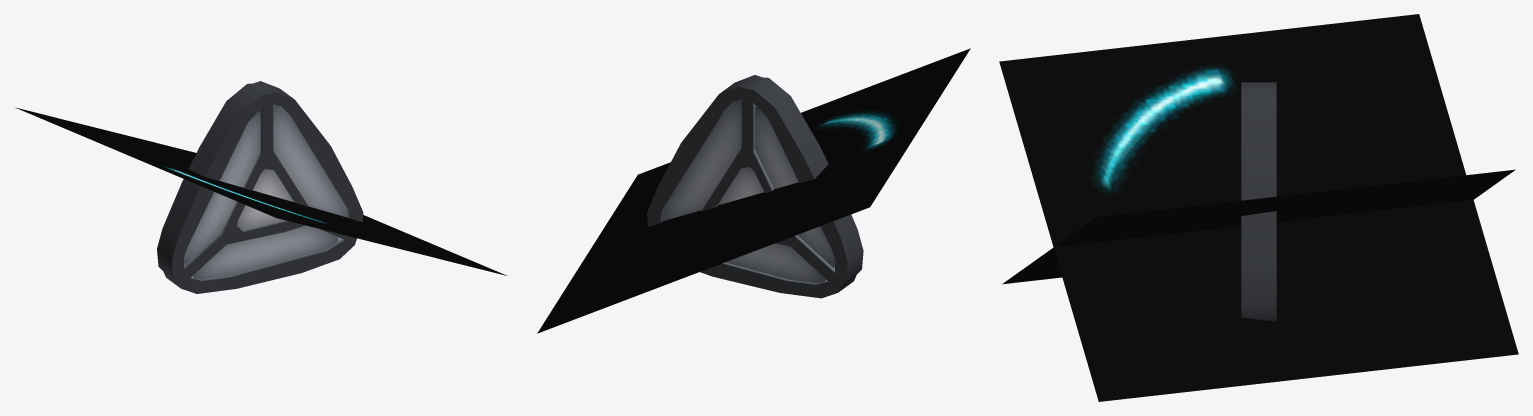
Rendered from Pickup_Super_Armor.fbx.
3 views of the same model, side by side, from view 1: azimuth 30°, elevation 25°; view 2: azimuth 150°, elevation 25°; view 3: azimuth 270°, elevation 25° (orthographic). The views are drawn at different scales.
Parts seen in each view (by area): view 1: Pickup_Buff_Tech, plane; view 2: plane, Pickup_Buff_Tech; view 3: plane (×2), Pickup_Buff_Tech.
Part boxes in pixels (x1,y1,x2,y2): Pickup_Buff_Tech: (157, 81, 363, 293); plane: (15, 107, 507, 275); plane: (537, 48, 970, 333); Pickup_Buff_Tech: (647, 75, 863, 298); plane (×2): (999, 14, 1518, 401); Pickup_Buff_Tech: (1241, 82, 1276, 321).
Bounding box in the file's own units: 3.11 × 1.76 × 3.34.
4 materials, 3 textured.
